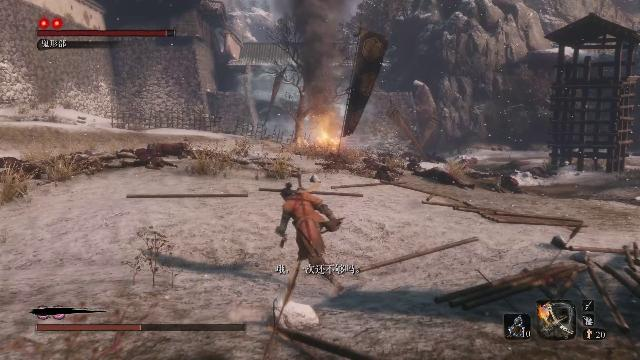sk: (277, 180, 348, 296)
